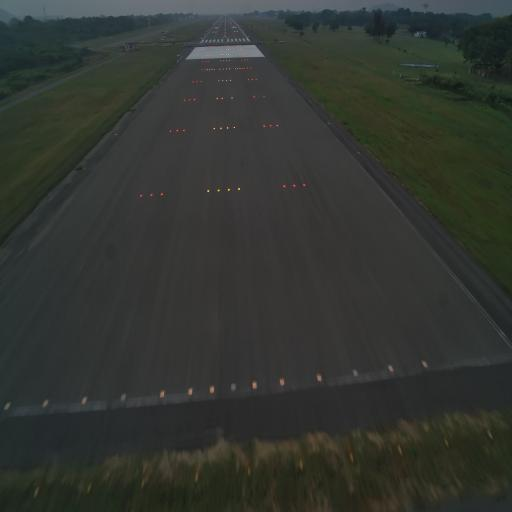off: (228, 379, 238, 400), (118, 388, 128, 406)
on: (385, 358, 396, 376), (350, 366, 361, 382), (157, 386, 167, 403), (185, 384, 196, 398), (277, 375, 287, 390), (80, 390, 88, 407), (420, 358, 429, 373), (207, 382, 216, 396), (251, 379, 259, 393), (315, 370, 323, 384), (290, 180, 298, 192), (236, 182, 242, 194), (138, 191, 144, 201), (226, 186, 231, 195), (206, 186, 210, 196), (216, 186, 220, 196), (282, 180, 286, 190), (302, 180, 306, 190), (149, 191, 153, 200), (160, 190, 164, 199)
